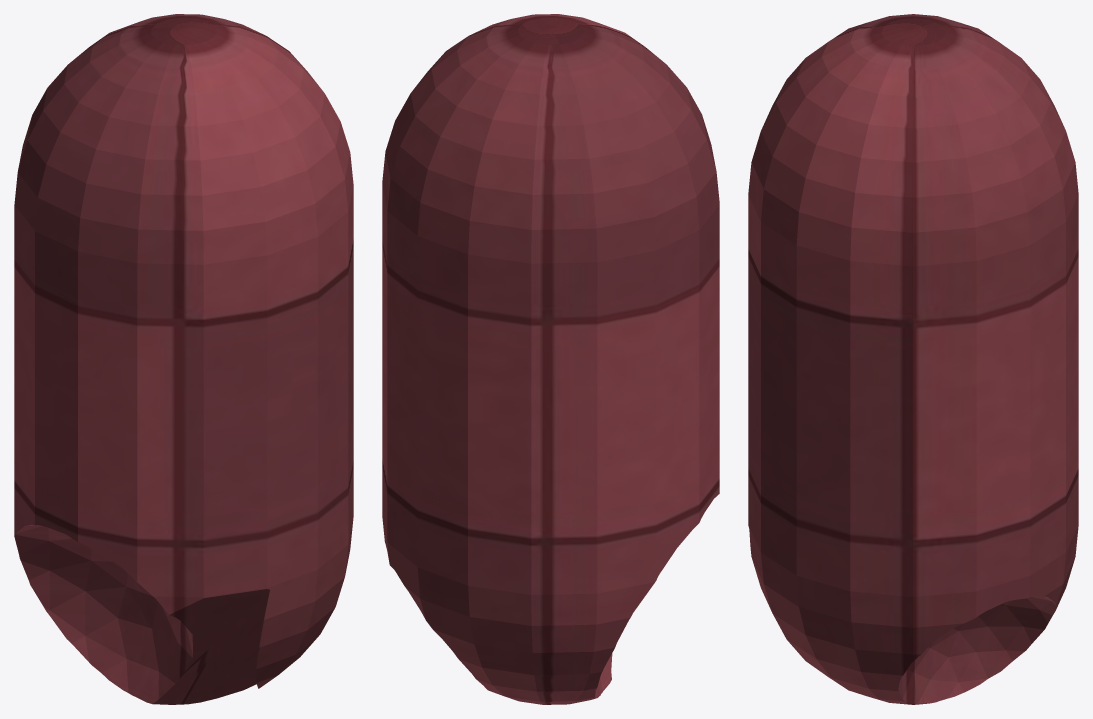
3 renders of one model, left to right at view 1: azimuth 30°, elevation 25°; view 2: azimuth 150°, elevation 25°; view 3: azimuth 270°, elevation 25°, orthographic.
Parts seen in each view (by area): view 1: geometry_0; view 2: geometry_0; view 3: geometry_0.
Part boxes in pixels (bbox=[...]): geometry_0: bbox=[14, 14, 353, 704]; geometry_0: bbox=[382, 14, 719, 704]; geometry_0: bbox=[748, 14, 1078, 704].
Bounding box in the file's own units: 1.06 × 2.26 × 1.02.
Materials: 1 (1 with a texture image).
